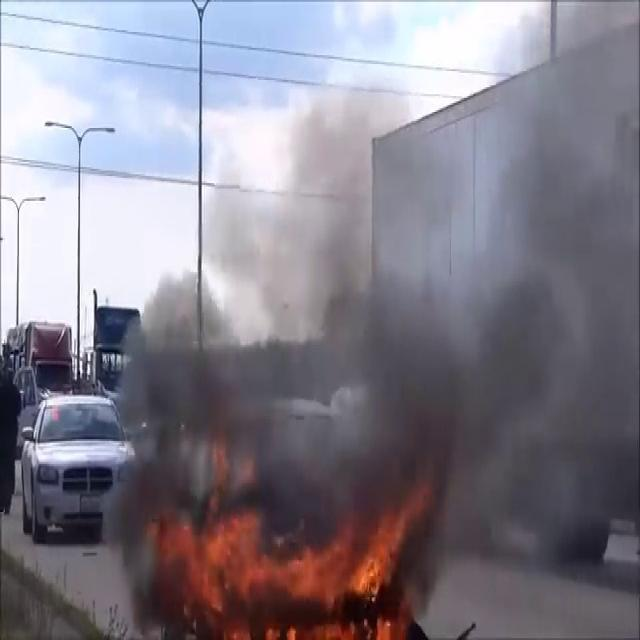Fire: (165, 493, 416, 638)
Smoke: (104, 22, 636, 580)
